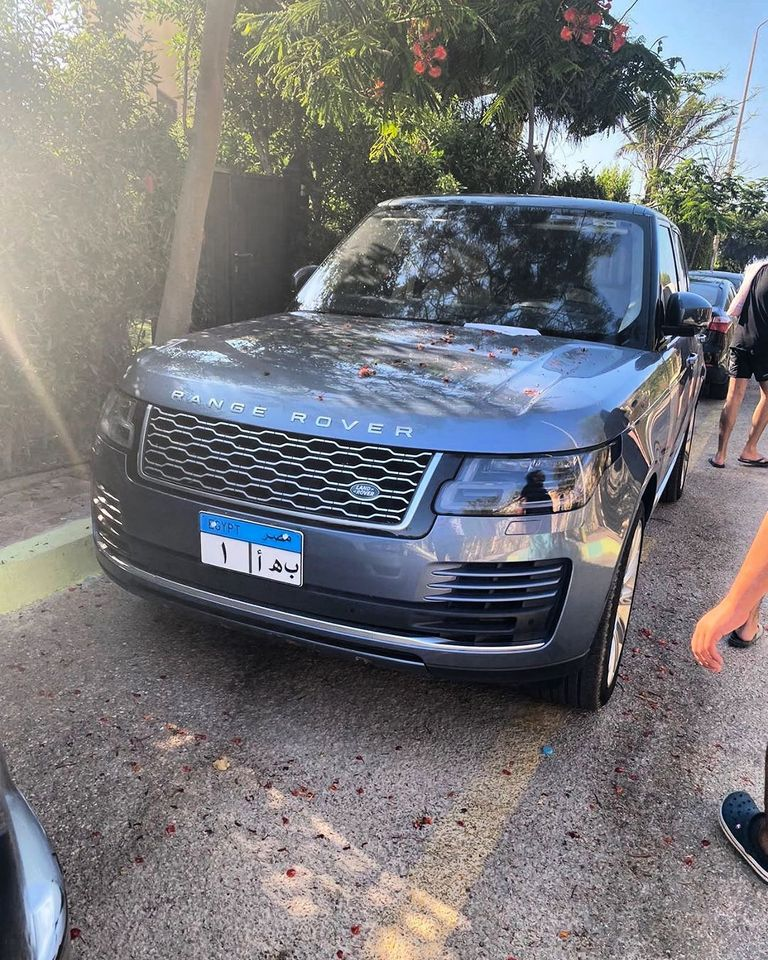carpl: (200, 515, 309, 590)
